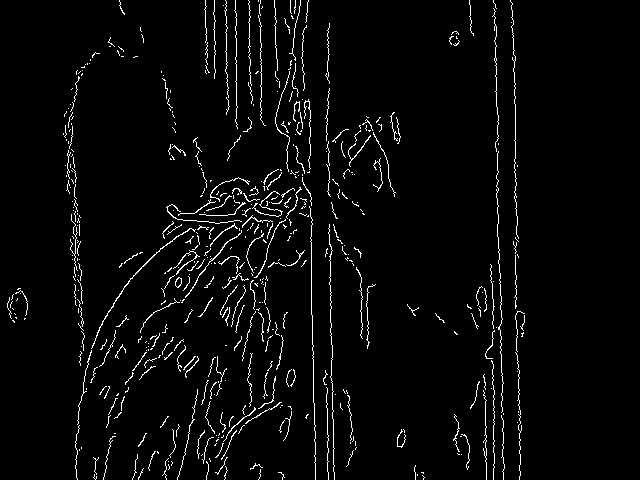red_onion: (66, 178, 306, 480), (337, 14, 494, 369)
